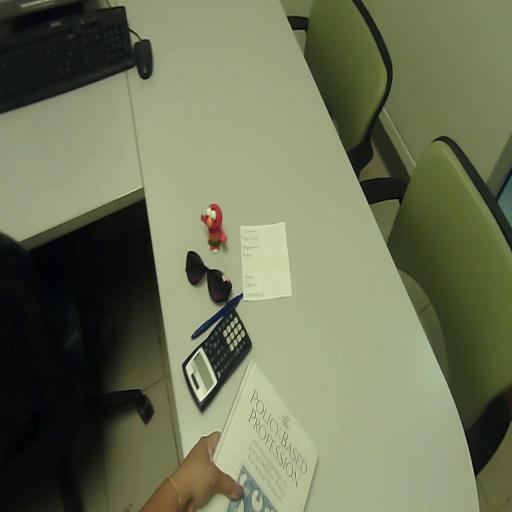pen: (191, 293, 243, 338)
